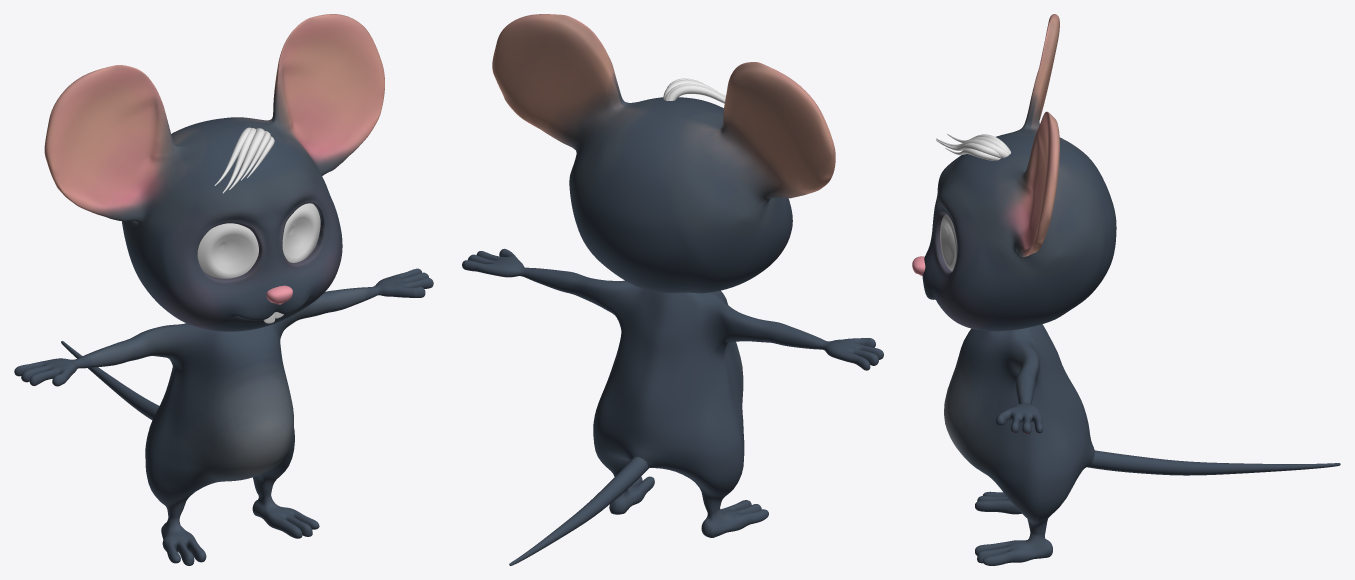
File: MouseMeshOnly.fbx
The picture shows the model from 3 angles, left to right: view 1: azimuth 30°, elevation 25°; view 2: azimuth 150°, elevation 25°; view 3: azimuth 270°, elevation 25°; orthographic projection. The views are drawn at different scales.
Parts seen in each view (by area): view 1: Plane, nouse.001, Sphere, Sphere.001, Body.001; view 2: Plane, nouse.001, Body.001, BezierCurve; view 3: Plane, nouse.001, Body.001, Sphere.001.
Boxes of the visible parts, x1,y1,x2,y2 form: Plane: (44, 14, 384, 331); nouse.001: (14, 268, 433, 565); Sphere: (197, 223, 258, 278); Sphere.001: (282, 203, 320, 262); Body.001: (61, 341, 159, 420); Plane: (492, 14, 835, 293); nouse.001: (462, 248, 883, 537); Body.001: (509, 457, 648, 565); BezierCurve: (667, 85, 725, 103); Plane: (922, 14, 1116, 331); nouse.001: (944, 324, 1094, 565); Body.001: (1087, 450, 1340, 475); Sphere.001: (940, 214, 957, 271).
Bounding box in the file's own units: 1487 × 1689 × 1410.
